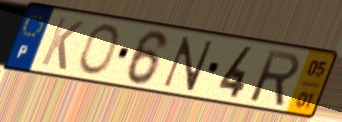4: (215, 44, 256, 100)
6: (125, 28, 170, 87)
K: (37, 15, 86, 73)
N: (159, 34, 216, 93)
O: (75, 22, 121, 78)
R: (248, 48, 303, 109)
